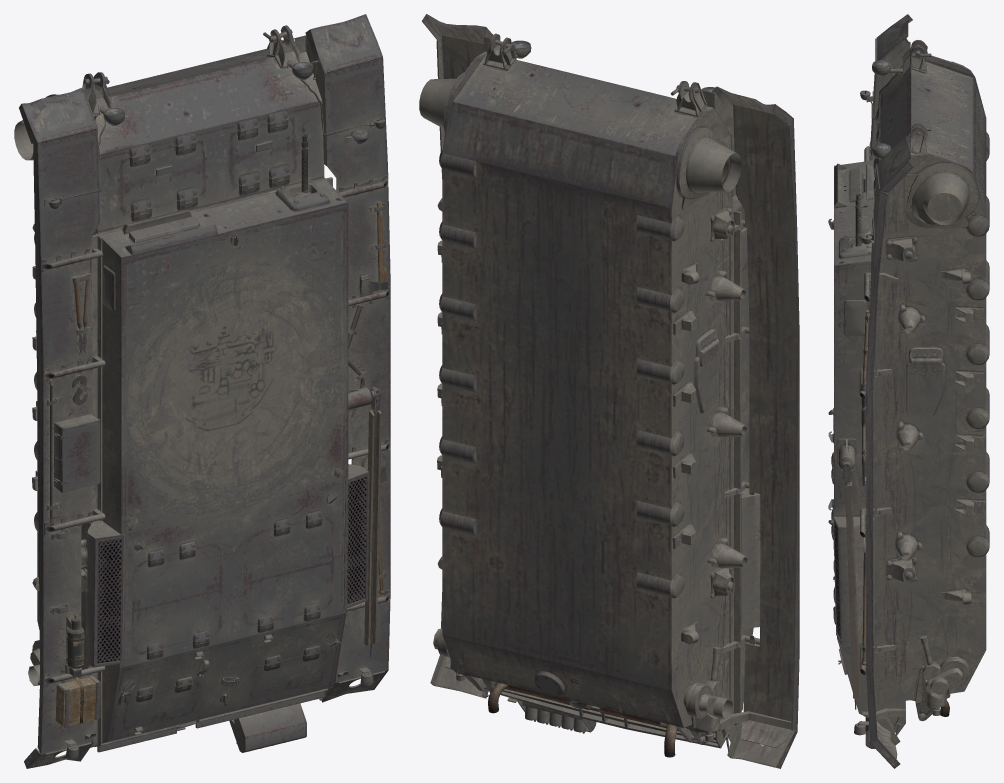
The model's file is Hull.glb.
3 renders of one model, left to right at view 1: azimuth 30°, elevation 25°; view 2: azimuth 150°, elevation 25°; view 3: azimuth 270°, elevation 25°, orthographic. The views are drawn at different scales.
Parts seen in each view (by area): view 1: set_0_group_0; view 2: set_0_group_0; view 3: set_0_group_0.
Part boxes in pixels (bbox=[...]): set_0_group_0: bbox=[14, 14, 390, 768]; set_0_group_0: bbox=[419, 14, 799, 768]; set_0_group_0: bbox=[828, 14, 989, 768].
Bounding box in the file's own units: 2.95 × 5.55 × 1.29.
1 material, 1 textured.
